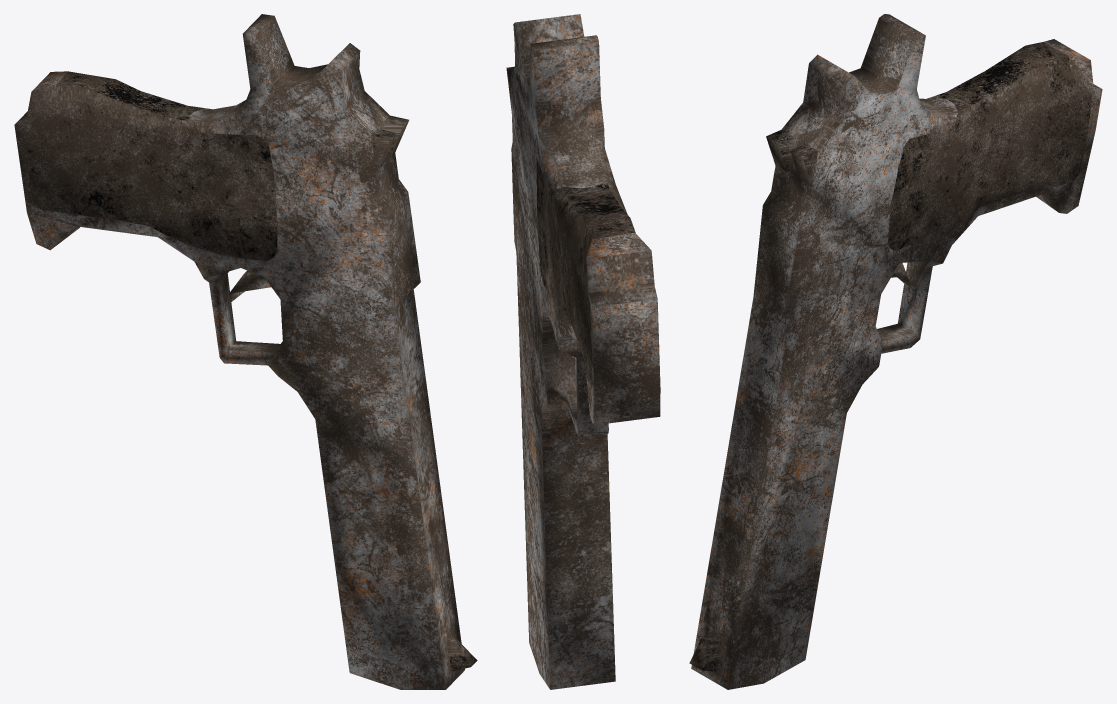
Rendered from Anim_idle_pistola_objetos.0048.obj.
3 renders of one model, left to right at view 1: azimuth 30°, elevation 25°; view 2: azimuth 150°, elevation 25°; view 3: azimuth 270°, elevation 25°, orthographic. The views are drawn at different scales.
Visible parts, largest first — view 1: Pistola1; view 2: Pistola1; view 3: Pistola1.
Boxes of the visible parts, x1,y1,x2,y2 form: Pistola1: (14,14,477,689); Pistola1: (506,14,660,689); Pistola1: (689,14,1102,689).
Bounding box in the file's own units: 0.7893 × 1.67 × 1.01.
